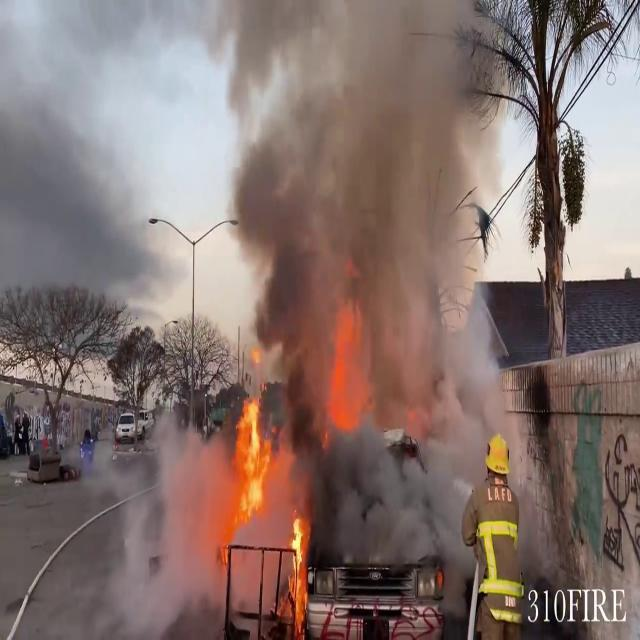Fire: (230, 392, 270, 522), (287, 511, 311, 633)
Smoke: (217, 0, 512, 495), (80, 402, 234, 636)
